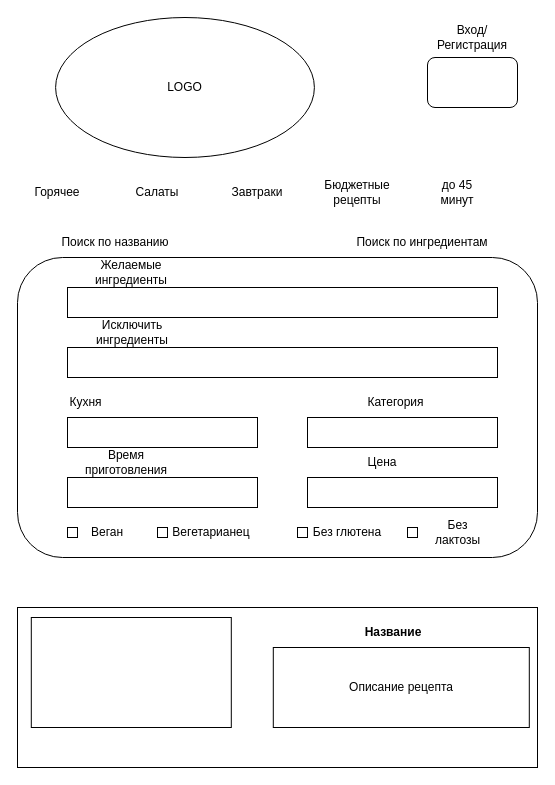
Image size: 555x785. Some labels were removed from this diagram. Each missing label, with the box of its shape:
IMAGE: (30, 616, 231, 728)
Добавить новый рецепт: (426, 56, 518, 108)
